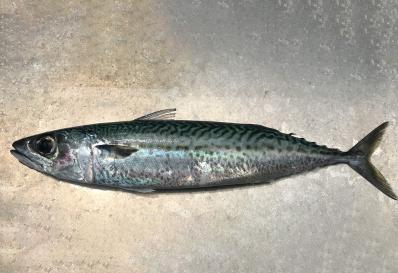Mackerel: (9, 107, 396, 205)
